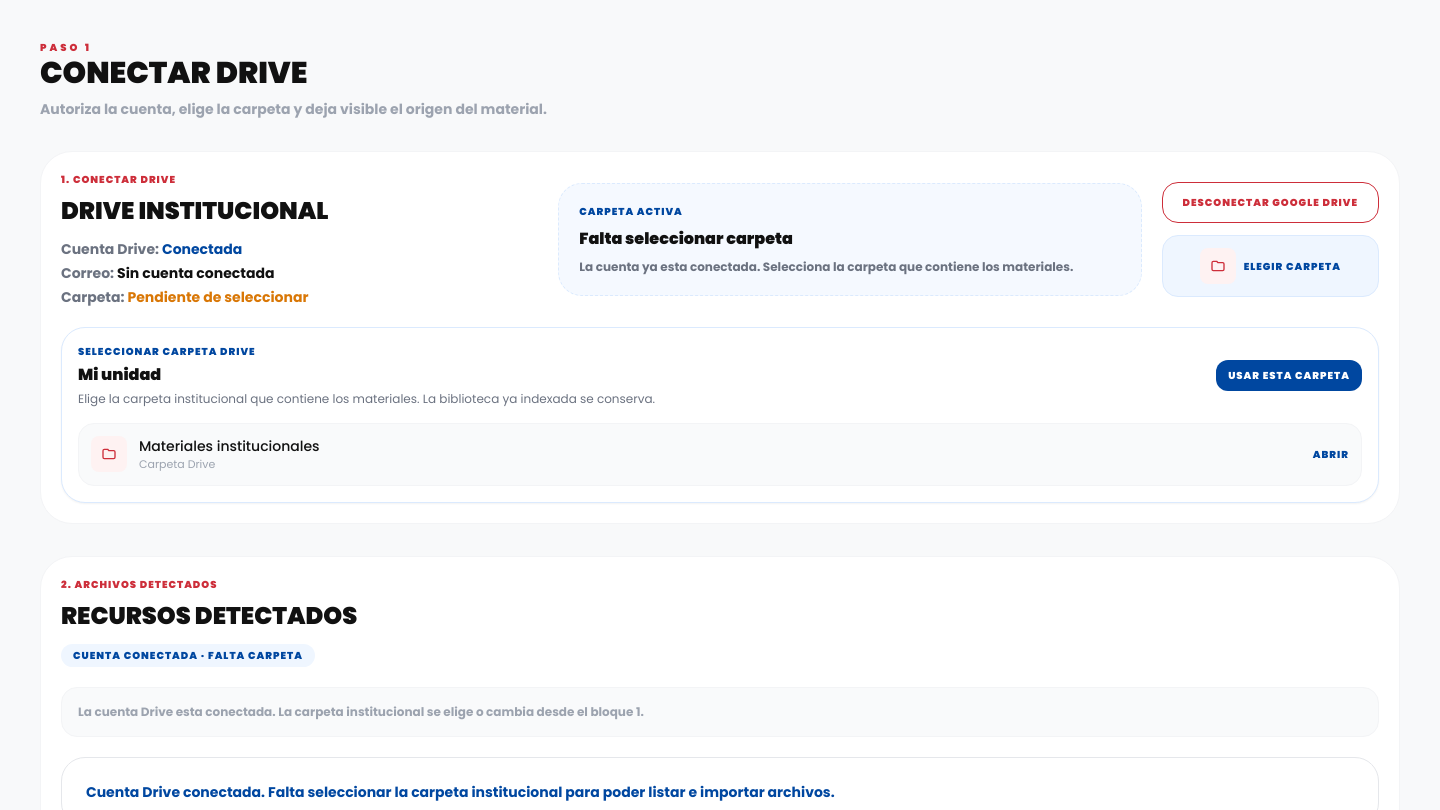
Scenario: BibliotecaView › selecciona carpeta desde Drive y lista archivos reales de la carpeta
Click the button "Materiales institucionales Carpeta Drive Abrir": (109, 454) [78,423,1362,486]
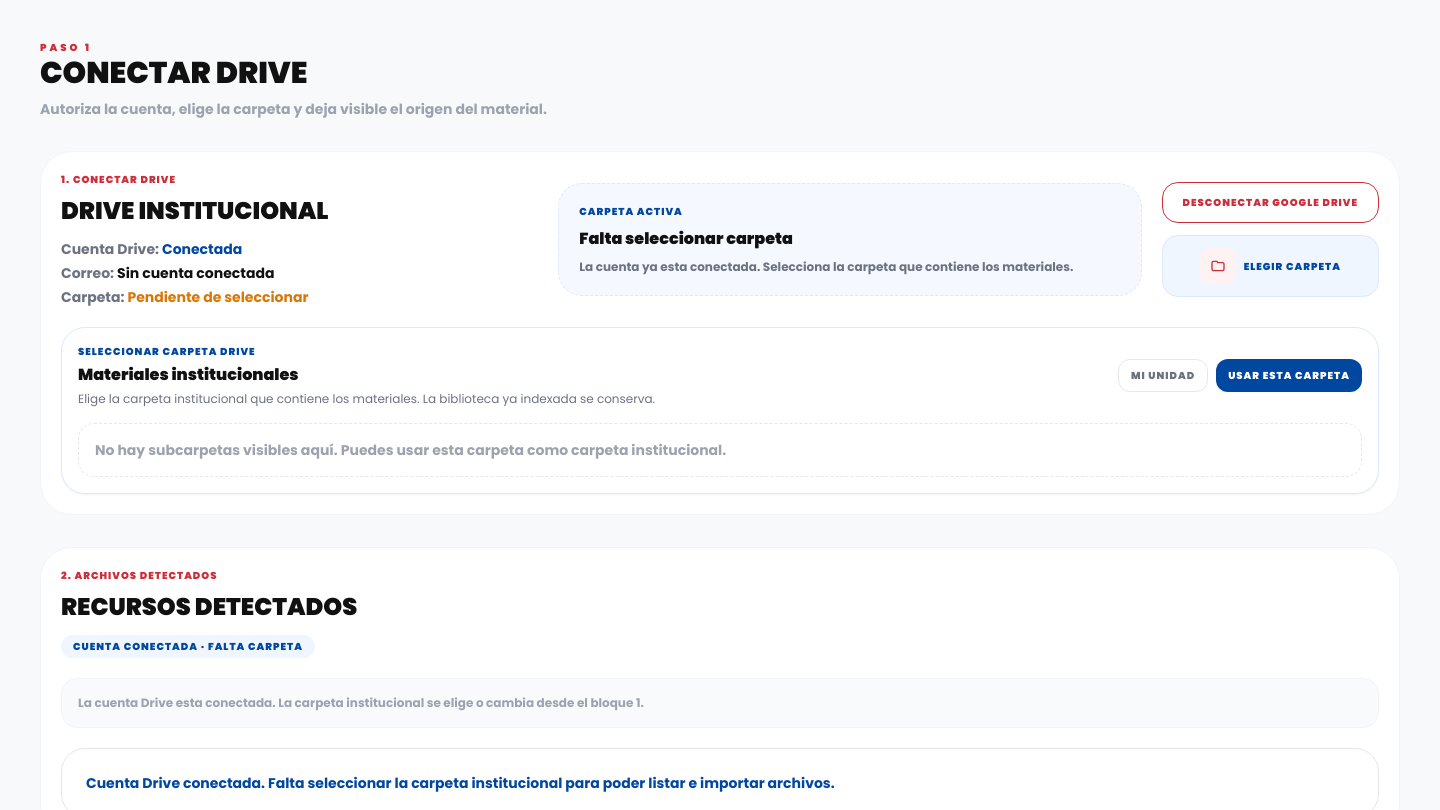
Click the button "Usar esta carpeta": (1289, 376) [1216,359,1362,392]
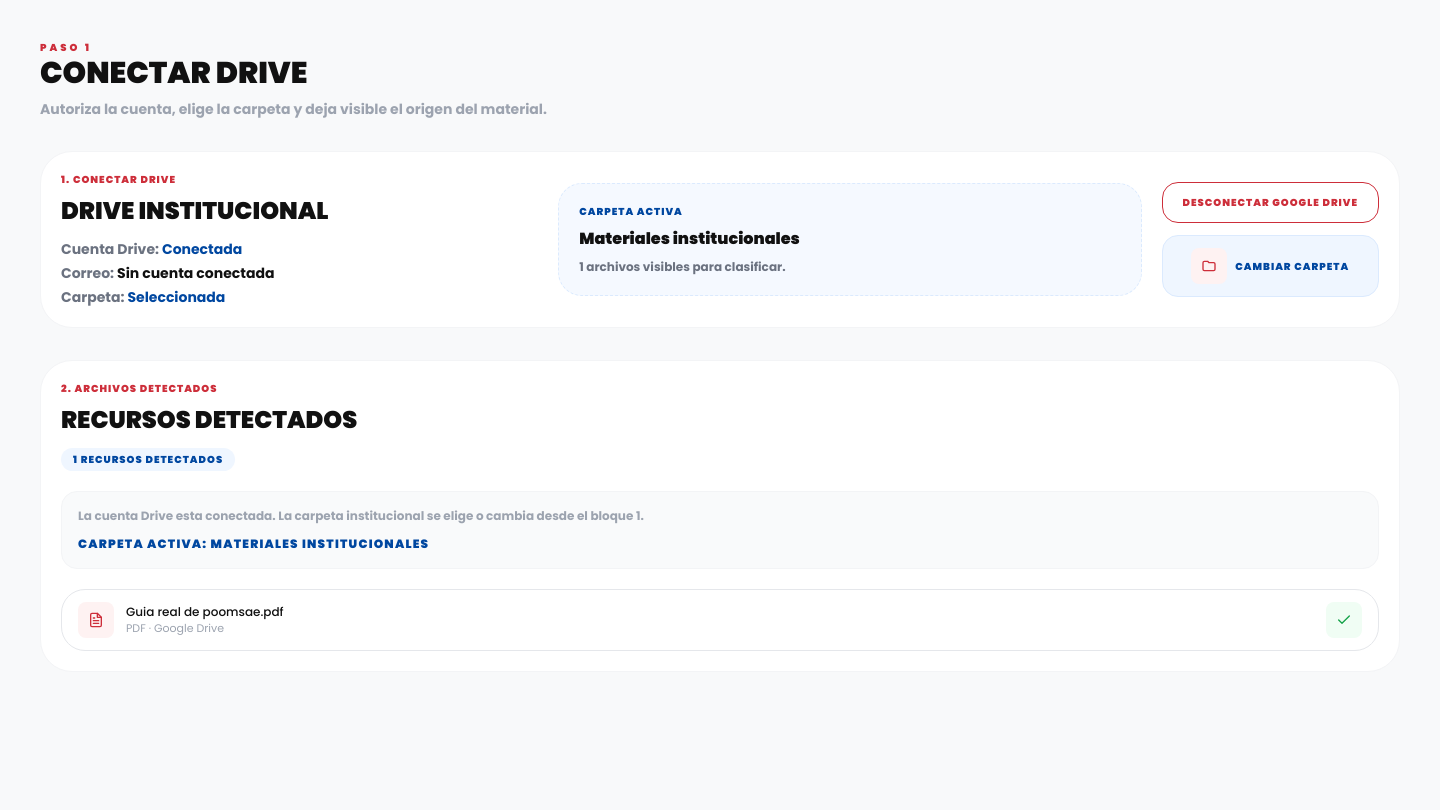
Now the text "Guia real de poomsae.pdf" is shown, box [126,604,284,620]
